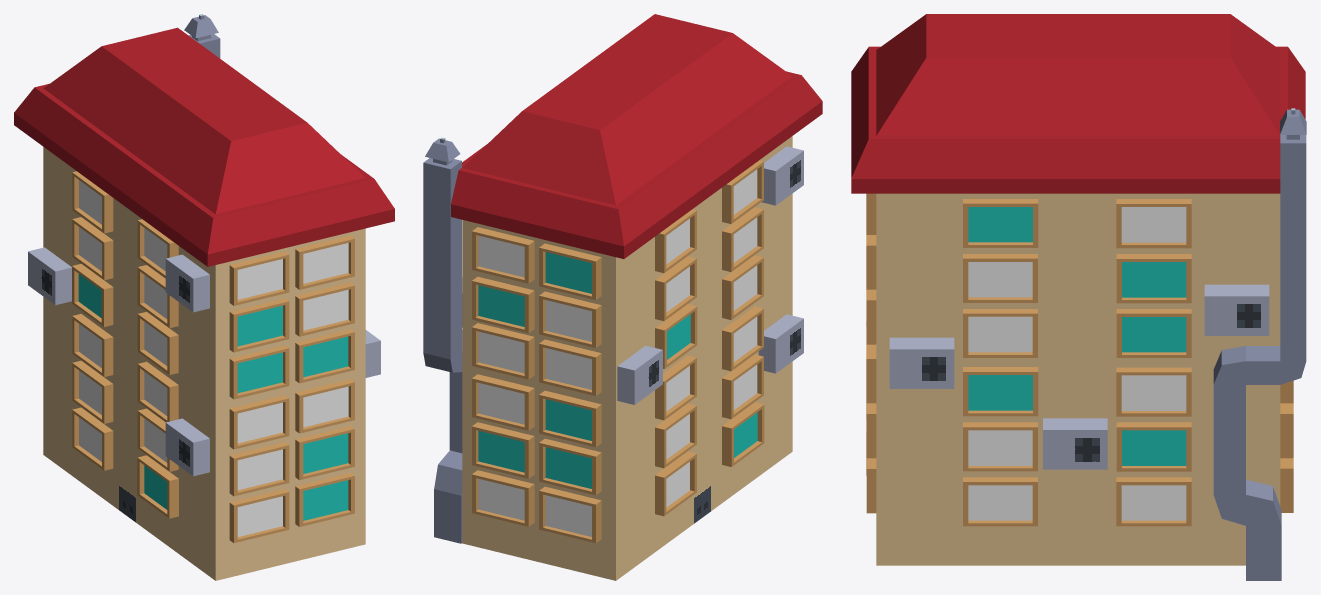
The model's file is building4.gltf.
3 renders of one model, left to right at view 1: azimuth 30°, elevation 25°; view 2: azimuth 150°, elevation 25°; view 3: azimuth 270°, elevation 25°, orthographic. The views are drawn at different scales.
Parts seen in each view (by area): view 1: cuboid (×30); view 2: cuboid (×29); view 3: cuboid (×24).
Boxes of the visible parts, x1=… form: cuboid (×30): x1=14, y1=14, x2=394, y2=580; cuboid (×29): x1=423, y1=14, x2=822, y2=580; cuboid (×24): x1=851, y1=14, x2=1306, y2=580.
Bounding box in the file's own units: 2.05 × 4.16 × 3.52.
Materials: 2 (2 with a texture image).
